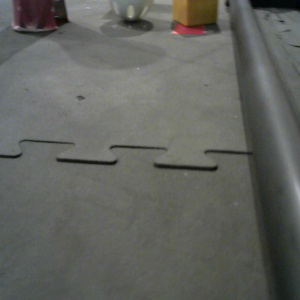middle: (12, 1, 71, 34)
